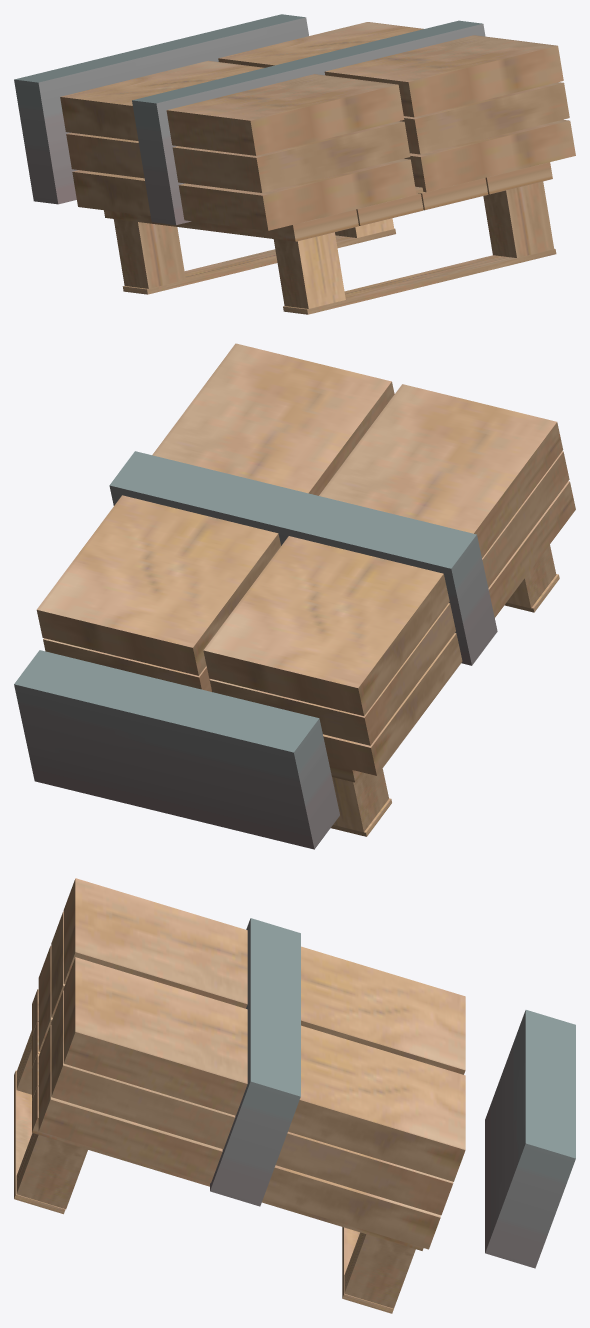
File: Boards.fbx
3 views of the same model, one above another, from view 1: azimuth 30°, elevation 25°; view 2: azimuth 150°, elevation 25°; view 3: azimuth 270°, elevation 25° (orthographic). The views are drawn at different scales.
Visible parts, largest first — view 1: Paletka_3, Cube_001__1_, Cube_001__10_, Cube_023__1_, Cube_001, Cube_002, Cube_023, Cube_001__9_, Cube_002__9_; view 2: Cube_001__1_, Cube_001__10_, Cube_023__1_, Cube_023, Cube_002, Cube_001, Paletka_3, Cube_002__9_; view 3: Cube_001__10_, Cube_001__1_, Cube_023__1_, Cube_023, Cube_001__9_, Cube_002__9_, Paletka_3, Cube_001, Cube_002.
Part boxes in pixels (x1=…): Paletka_3: x1=104, y1=162, x2=556, y2=314; Cube_001__1_: x1=60, y1=60, x2=404, y2=155; Cube_001__10_: x1=218, y1=22, x2=563, y2=117; Cube_023__1_: x1=14, y1=14, x2=308, y2=204; Cube_001: x1=72, y1=158, x2=416, y2=230; Cube_002: x1=66, y1=121, x2=410, y2=192; Cube_023: x1=132, y1=20, x2=485, y2=225; Cube_001__9_: x1=404, y1=119, x2=575, y2=192; Cube_002__9_: x1=400, y1=82, x2=569, y2=154; Cube_001__1_: x1=203, y1=384, x2=563, y2=715; Cube_001__10_: x1=36, y1=343, x2=394, y2=675; Cube_023__1_: x1=14, y1=650, x2=339, y2=849; Cube_023: x1=109, y1=451, x2=497, y2=665; Cube_002: x1=209, y1=451, x2=569, y2=745; Cube_001: x1=323, y1=481, x2=575, y2=775; Paletka_3: x1=329, y1=545, x2=559, y2=836; Cube_002__9_: x1=43, y1=638, x2=211, y2=691; Cube_001__10_: x1=63, y1=957, x2=465, y2=1181; Cube_001__1_: x1=63, y1=878, x2=465, y2=1074; Cube_023__1_: x1=485, y1=1010, x2=575, y2=1268; Cube_023: x1=210, y1=918, x2=300, y2=1206; Cube_001__9_: x1=38, y1=1025, x2=440, y2=1249; Cube_002__9_: x1=51, y1=990, x2=453, y2=1215; Paletka_3: x1=14, y1=989, x2=423, y2=1313; Cube_001: x1=38, y1=945, x2=52, y2=1051; Cube_002: x1=51, y1=911, x2=65, y2=1017.
Size of the model in its own units: 93.23 by 79.19 by 135.
